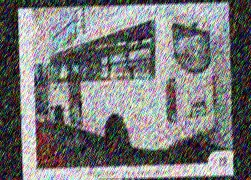bus: (42, 10, 218, 157)
